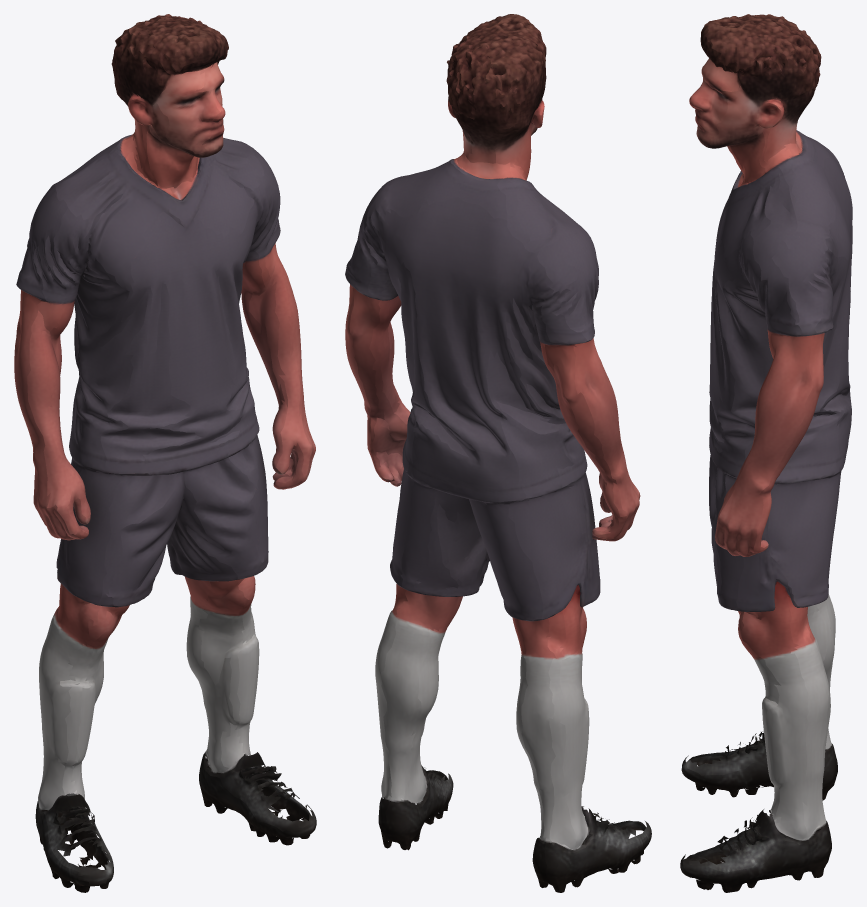
The picture shows the model from 3 angles, left to right: view 1: azimuth 30°, elevation 25°; view 2: azimuth 150°, elevation 25°; view 3: azimuth 270°, elevation 25°; orthographic projection.
Parts seen in each view (by area): view 1: model; view 2: model; view 3: model.
Part boxes in pixels (x1,y1,x2,y2): model: (14,14,316,892); model: (345,14,651,892); model: (680,14,852,892).
Bounding box in the file's own units: 0.3444 × 1 × 0.1916.
Materials: 1 (1 with a texture image).
